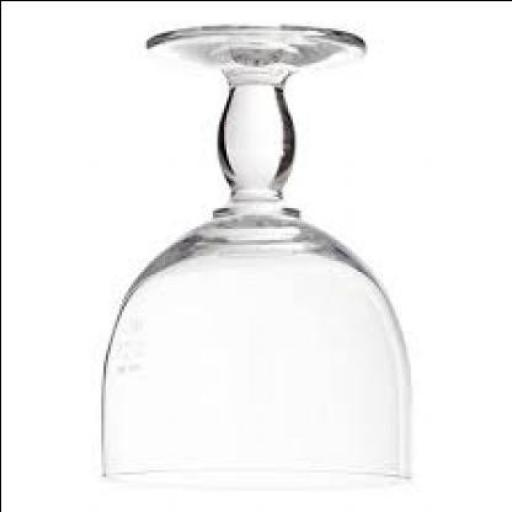glass: (97, 27, 410, 487)
